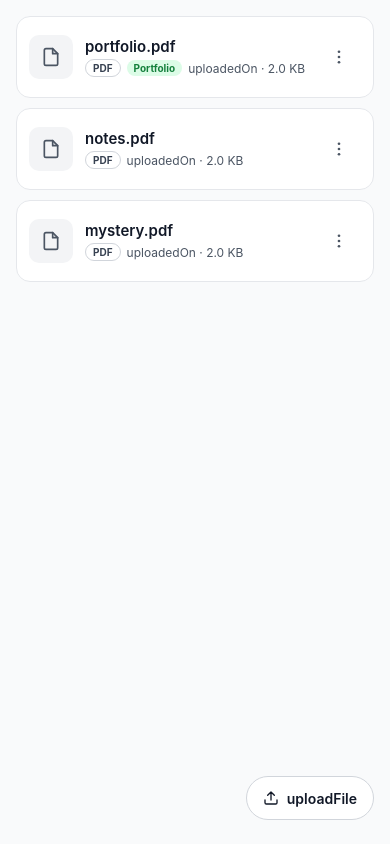
it: DocumentCategoryScreen — one category per screen (JEF-396) › upload type › offers Other only the types that stay in it, so a file cannot vanish into another screen
The width and height of the screenshot is (390, 844).
Click the button with test id "pick-document-button" at (310, 798), box 246,776 -> 374,820
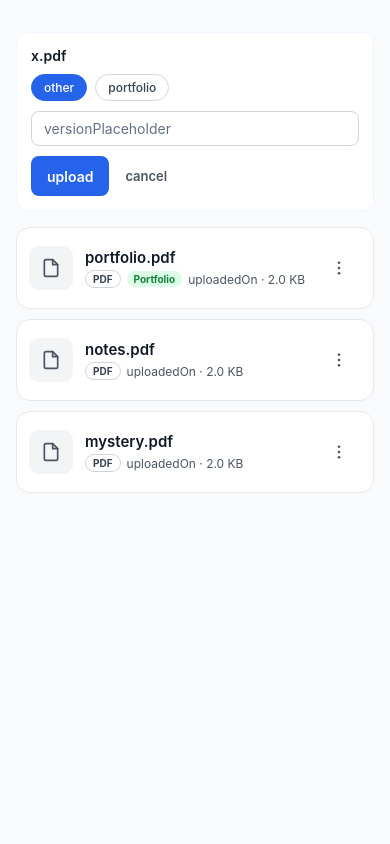
Expected: the element with test id "confirm-upload-button" is shown, 31,156 -> 109,196
Result: the element with test id "document-type-other" is shown at 31,74 -> 87,101
Result: the element with test id "document-type-portfolio" is shown at 95,74 -> 169,101
